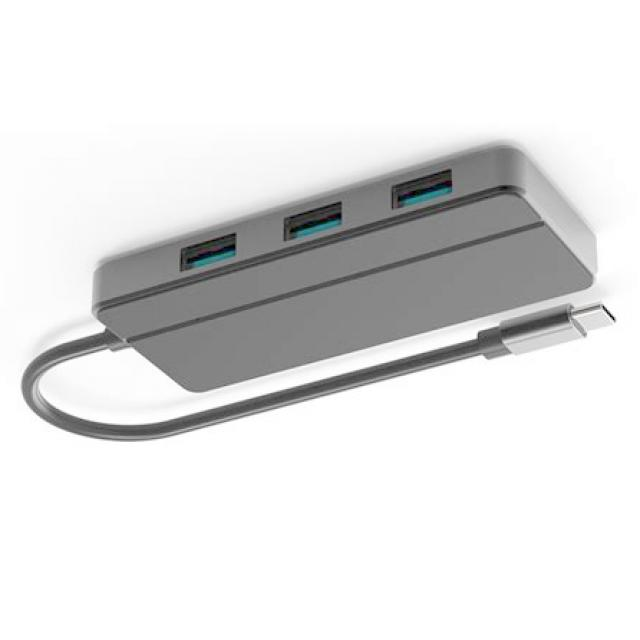usb port: (388, 175, 460, 214), (277, 210, 346, 241), (178, 238, 241, 268)
